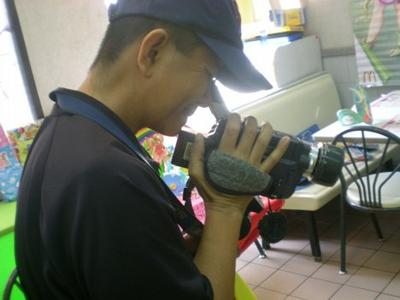person: (14, 1, 288, 298)
